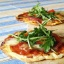basil: (6, 27, 59, 45)
pizza: (2, 29, 64, 62), (17, 9, 64, 25)
